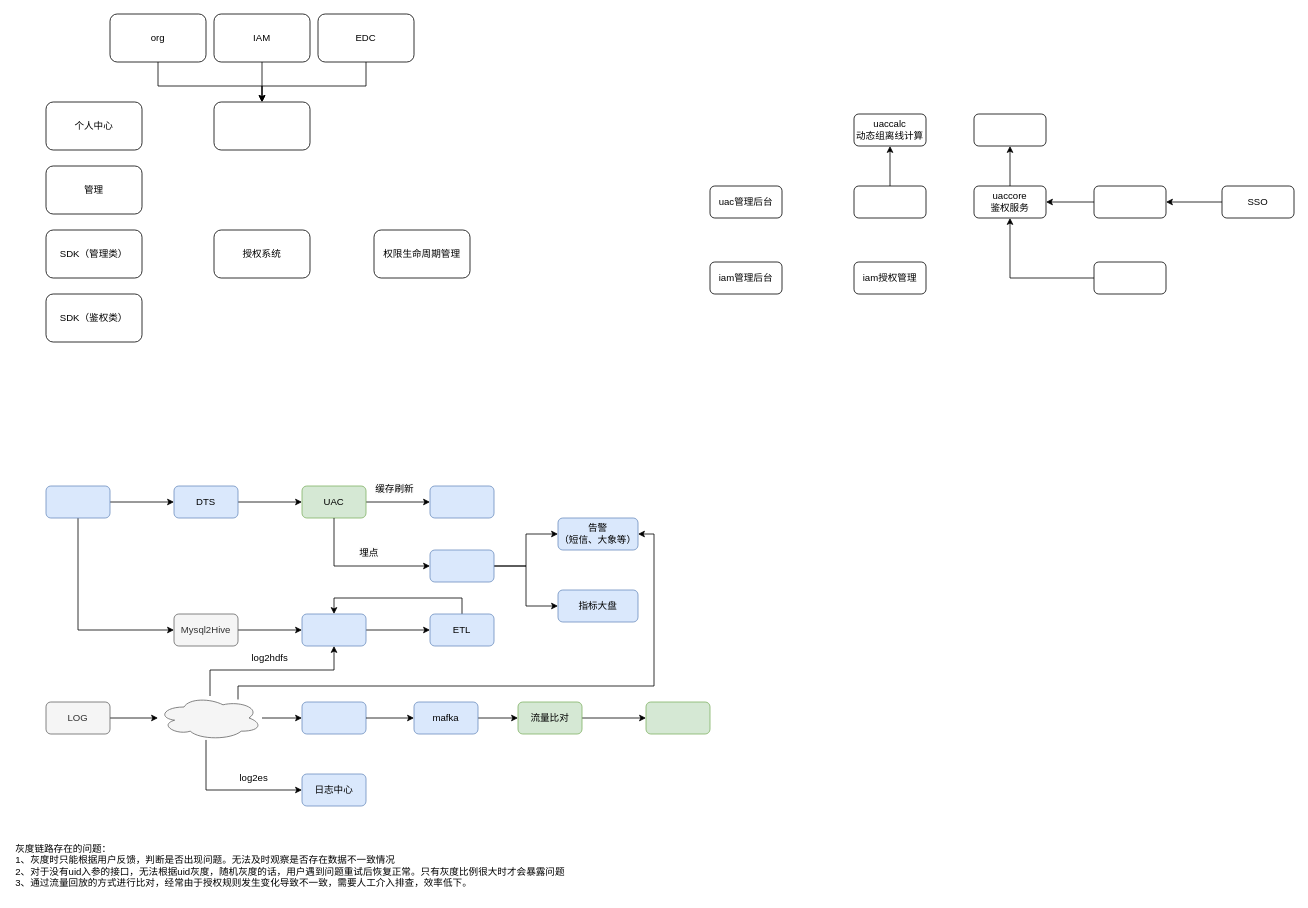
This 1308x908 diagram has some shape labels left out. The centre of each missing label's shape, as x and y in pixels:
"Flink" belongs at point 333,717.
"HIVE" belongs at point 333,629.
"iamauth 一级鉴权适配" belongs at point 1129,201.
"Raptor" belongs at point 461,565.
"RDS" belongs at point 77,501.
"Squirrel" belongs at point 461,501.
"uac 授权管理服务" belongs at point 889,201.
"uacgroup 动态组实时计算" belongs at point 1009,129.
"upm鉴权" belongs at point 1129,277.
"日志收集、解析" belongs at point 209,717.
"灰度链路" belongs at point 677,717.
"账号与动态组管理" belongs at point 261,125.
